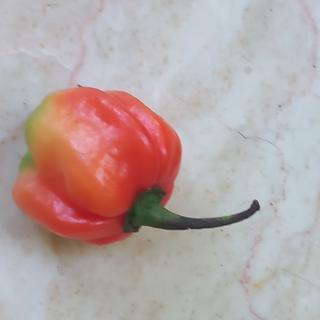Grade-B: (11, 76, 183, 247)
